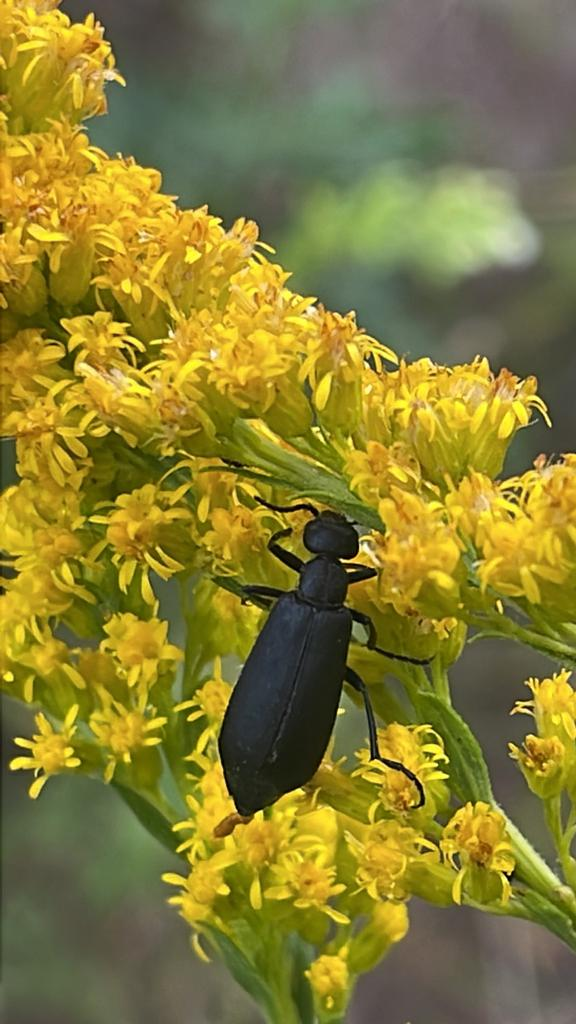blister_beetle: (167, 436, 469, 885)
